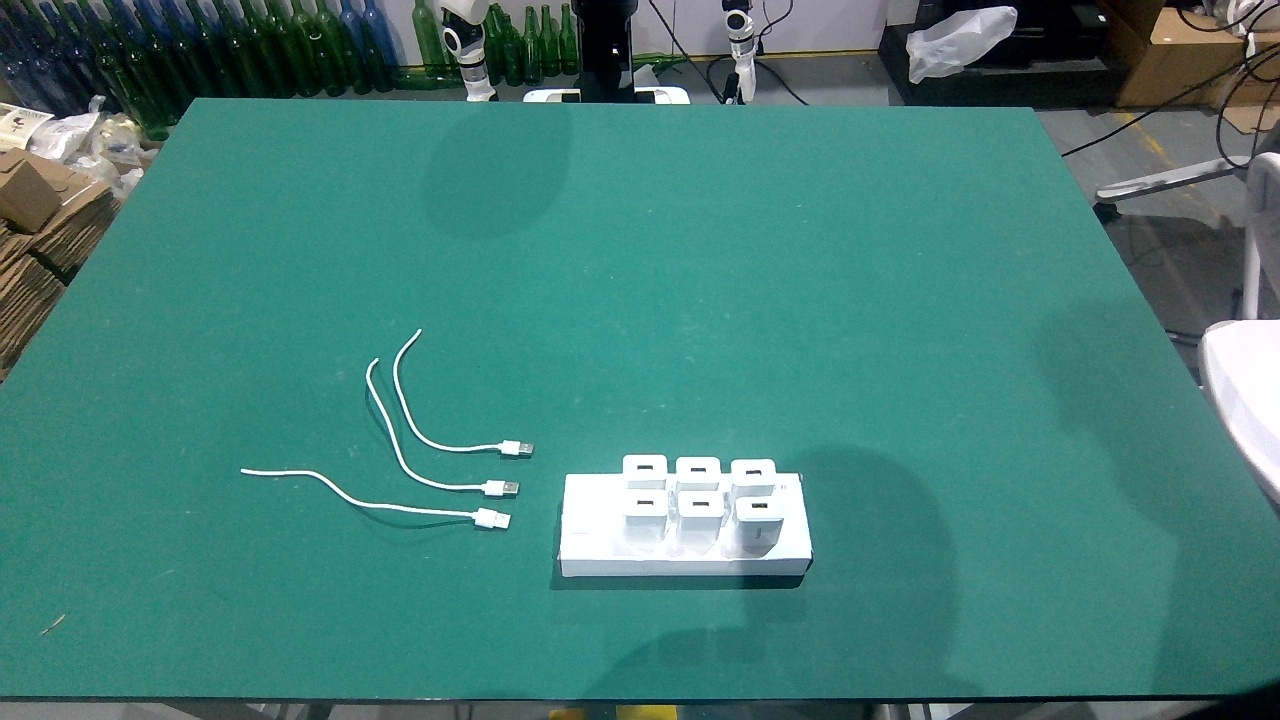usb_a_port: (686, 462, 710, 478), (631, 461, 658, 475), (689, 499, 717, 511), (635, 495, 657, 510), (749, 500, 772, 513), (743, 467, 766, 478)
